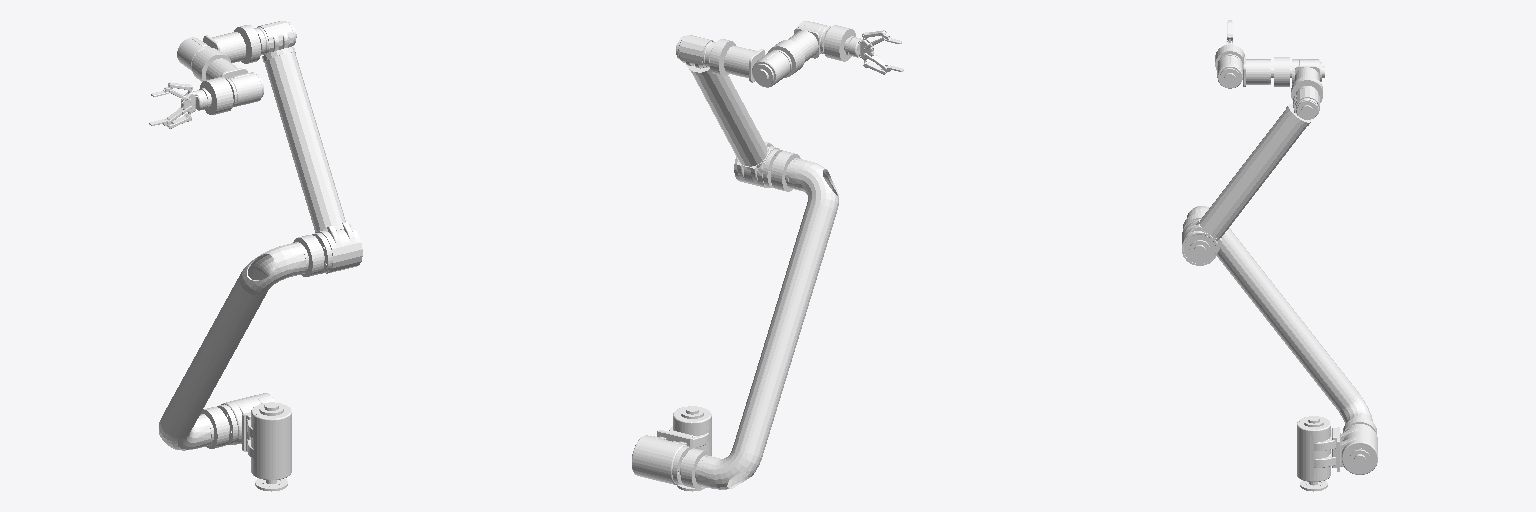
The robot description file, URDF, robot "机械臂":
<?xml version="1.0" encoding="utf-8"?>
<!-- This URDF was automatically created by SolidWorks to URDF Exporter! Originally created by [author] ([email redacted]) 
     Commit Version: 1.6.0-1-g15f4949  Build Version: 1.6.7594.29634
     For more information, please see http://wiki.ros.org/sw_urdf_exporter -->
<robot
  name="机械臂">
  <link
    name="base_link">
    <inertial>
      <origin
        xyz="0.175000065234684 -1.28353998601978 0.0846256448065584"
        rpy="0 0 0" />
      <mass
        value="9.63410834932178" />
      <inertia
        ixx="0.118228807956081"
        ixy="-5.0957321181862E-07"
        ixz="1.72062364122864E-09"
        iyy="0.118225953121689"
        iyz="4.16913652507129E-17"
        izz="0.137194156018786" />
    </inertial>
    <visual>
      <origin
        xyz="0 0 0"
        rpy="0 0 0" />
      <geometry>
        <mesh
          filename="package://机械臂/meshes/base_link.STL" />
      </geometry>
      <material
        name="">
        <color
          rgba="1 1 1 1" />
      </material>
    </visual>
    <collision>
      <origin
        xyz="0 0 0"
        rpy="0 0 0" />
      <geometry>
        <mesh
          filename="package://机械臂/meshes/base_link.STL" />
      </geometry>
    </collision>
  </link>
  <link
    name="Link1">
    <inertial>
      <origin
        xyz="-0.10023640362579 -0.00344641251692088 0.174250351355485"
        rpy="0 0 0" />
      <mass
        value="5.17491872844292" />
      <inertia
        ixx="0.0304221927243367"
        ixy="0.00255793298706213"
        ixz="0.000566537933529525"
        iyy="0.0524628663009184"
        iyz="-5.38795635070424E-05"
        izz="0.0437592826397428" />
    </inertial>
    <visual>
      <origin
        xyz="0 0 0"
        rpy="0 0 0" />
      <geometry>
        <mesh
          filename="package://机械臂/meshes/Link1.STL" />
      </geometry>
      <material
        name="">
        <color
          rgba="1 1 1 1" />
      </material>
    </visual>
    <collision>
      <origin
        xyz="0 0 0"
        rpy="0 0 0" />
      <geometry>
        <mesh
          filename="package://机械臂/meshes/Link1.STL" />
      </geometry>
    </collision>
  </link>
  <joint
    name="joint1"
    type="revolute">
    <origin
      xyz="0.175 -1.28353998602675 0.180000000000021"
      rpy="0 0 -1.5707963267949" />
    <parent
      link="base_link" />
    <child
      link="Link1" />
    <axis
      xyz="0 0 -1" />
    <limit
      lower="0"
      upper="0"
      effort="0"
      velocity="0" />
  </joint>
  <link
    name="Link2">
    <inertial>
      <origin
        xyz="0.466771973200787 -0.0200679208590893 0.656279146890149"
        rpy="0 0 0" />
      <mass
        value="5.06670898247749" />
      <inertia
        ixx="0.3470792896805"
        ixy="1.04550875056428E-05"
        ixz="-0.229276580302284"
        iyy="0.500779642027053"
        iyz="1.48421856668549E-05"
        izz="0.187791160297581" />
    </inertial>
    <visual>
      <origin
        xyz="0 0 0"
        rpy="0 0 0" />
      <geometry>
        <mesh
          filename="package://机械臂/meshes/Link2.STL" />
      </geometry>
      <material
        name="">
        <color
          rgba="1 1 1 1" />
      </material>
    </visual>
    <collision>
      <origin
        xyz="0 0 0"
        rpy="0 0 0" />
      <geometry>
        <mesh
          filename="package://机械臂/meshes/Link2.STL" />
      </geometry>
    </collision>
  </link>
  <joint
    name="joint2"
    type="revolute">
    <origin
      xyz="-0.199999999999705 -0.164019999999946 0.179999999999324"
      rpy="0 0 0" />
    <parent
      link="Link1" />
    <child
      link="Link2" />
    <axis
      xyz="0 -1 0" />
    <limit
      lower="0"
      upper="0"
      effort="0"
      velocity="0" />
  </joint>
  <link
    name="Link3">
    <inertial>
      <origin
        xyz="-0.26645118399556 -0.079424732084338 0.38167788397144"
        rpy="0 0 0" />
      <mass
        value="3.09946963131409" />
      <inertia
        ixx="0.149105958907437"
        ixy="-1.89957749734383E-05"
        ixz="0.0977586144353564"
        iyy="0.219315567296226"
        iyz="2.72491726693336E-05"
        izz="0.0773167516090272" />
    </inertial>
    <visual>
      <origin
        xyz="0 0 0"
        rpy="0 0 0" />
      <geometry>
        <mesh
          filename="package://机械臂/meshes/Link3.STL" />
      </geometry>
      <material
        name="">
        <color
          rgba="1 1 1 1" />
      </material>
    </visual>
    <collision>
      <origin
        xyz="0 0 0"
        rpy="0 0 0" />
      <geometry>
        <mesh
          filename="package://机械臂/meshes/Link3.STL" />
      </geometry>
    </collision>
  </link>
  <joint
    name="joint3"
    type="revolute">
    <origin
      xyz="0.695520649063987 0.219020000000473 0.97788088575548"
      rpy="0 0 0" />
    <parent
      link="Link2" />
    <child
      link="Link3" />
    <axis
      xyz="0 1 0" />
    <limit
      lower="0"
      upper="0"
      effort="0"
      velocity="0" />
  </joint>
  <link
    name="Link4">
    <inertial>
      <origin
        xyz="0.0339777660443481 -0.108927859924944 -5.01533037322588E-09"
        rpy="0 0 0" />
      <mass
        value="1.32312071913896" />
      <inertia
        ixx="0.0040376799409881"
        ixy="2.8629913833031E-06"
        ixz="-4.78825536786573E-11"
        iyy="0.0025574469782764"
        iyz="-2.53060943732125E-10"
        izz="0.00390753680935879" />
    </inertial>
    <visual>
      <origin
        xyz="0 0 0"
        rpy="0 0 0" />
      <geometry>
        <mesh
          filename="package://机械臂/meshes/Link4.STL" />
      </geometry>
      <material
        name="">
        <color
          rgba="1 1 1 1" />
      </material>
    </visual>
    <collision>
      <origin
        xyz="0 0 0"
        rpy="0 0 0" />
      <geometry>
        <mesh
          filename="package://机械臂/meshes/Link4.STL" />
      </geometry>
    </collision>
  </link>
  <joint
    name="joint4"
    type="revolute">
    <origin
      xyz="-0.466520649051403 -0.211099999835117 0.668269020696948"
      rpy="0 0 0" />
    <parent
      link="Link3" />
    <child
      link="Link4" />
    <axis
      xyz="0 1 0" />
    <limit
      lower="0"
      upper="0"
      effort="0"
      velocity="0" />
  </joint>
  <link
    name="Link5">
    <inertial>
      <origin
        xyz="0.116820494902411 -0.0388858014695093 9.49856462728604E-05"
        rpy="0 0 0" />
      <mass
        value="1.49665109696271" />
      <inertia
        ixx="0.00362010787485334"
        ixy="2.87189467699518E-06"
        ixz="-7.52821732655946E-09"
        iyy="0.00411237521489435"
        iyz="2.18423673209098E-06"
        izz="0.00497019007843053" />
    </inertial>
    <visual>
      <origin
        xyz="0 0 0"
        rpy="0 0 0" />
      <geometry>
        <mesh
          filename="package://机械臂/meshes/Link5.STL" />
      </geometry>
      <material
        name="">
        <color
          rgba="1 1 1 1" />
      </material>
    </visual>
    <collision>
      <origin
        xyz="0 0 0"
        rpy="0 0 0" />
      <geometry>
        <mesh
          filename="package://机械臂/meshes/Link5.STL" />
      </geometry>
    </collision>
  </link>
  <joint
    name="joint5"
    type="revolute">
    <origin
      xyz="0.157999999987109 -0.17700000017881 0"
      rpy="0 0 0" />
    <parent
      link="Link4" />
    <child
      link="Link5" />
    <axis
      xyz="-1 0 0" />
    <limit
      lower="0"
      upper="0"
      effort="0"
      velocity="0" />
  </joint>
  <link
    name="Link6">
    <inertial>
      <origin
        xyz="2.28098209260619E-05 -0.0320807203623127 -5.37221285679124E-07"
        rpy="0 0 0" />
      <mass
        value="0.225883780891649" />
      <inertia
        ixx="0.000200276096336215"
        ixy="1.12516805106898E-07"
        ixz="-8.90541740359369E-09"
        iyy="0.000134409410807654"
        iyz="-4.88400860706578E-10"
        izz="0.000175807968226694" />
    </inertial>
    <visual>
      <origin
        xyz="0 0 0"
        rpy="0 0 0" />
      <geometry>
        <mesh
          filename="package://机械臂/meshes/Link6.STL" />
      </geometry>
      <material
        name="">
        <color
          rgba="1 1 1 1" />
      </material>
    </visual>
    <collision>
      <origin
        xyz="0 0 0"
        rpy="0 0 0" />
      <geometry>
        <mesh
          filename="package://机械臂/meshes/Link6.STL" />
      </geometry>
    </collision>
  </link>
  <joint
    name="joint6"
    type="revolute">
    <origin
      xyz="0.176999999990653 -0.167999494802491 0.000411998519138201"
      rpy="-0.00245237457649197 0 0" />
    <parent
      link="Link5" />
    <child
      link="Link6" />
    <axis
      xyz="0 -1 0" />
    <limit
      lower="0"
      upper="0"
      effort="0"
      velocity="0" />
  </joint>
  <link
    name="Link7">
    <inertial>
      <origin
        xyz="-0.000181478067869945 -0.0317448329689773 0.0398064144277606"
        rpy="0 0 0" />
      <mass
        value="0.0319358386218752" />
      <inertia
        ixx="2.01085931432526E-05"
        ixy="3.12789550275446E-09"
        ixz="-8.8632784447456E-10"
        iyy="5.09514460934359E-06"
        iyz="6.17937194323444E-06"
        izz="1.90791381720628E-05" />
    </inertial>
    <visual>
      <origin
        xyz="0 0 0"
        rpy="0 0 0" />
      <geometry>
        <mesh
          filename="package://机械臂/meshes/Link7.STL" />
      </geometry>
      <material
        name="">
        <color
          rgba="1 1 1 1" />
      </material>
    </visual>
    <collision>
      <origin
        xyz="0 0 0"
        rpy="0 0 0" />
      <geometry>
        <mesh
          filename="package://机械臂/meshes/Link7.STL" />
      </geometry>
    </collision>
  </link>
  <joint
    name="joint7"
    type="revolute">
    <origin
      xyz="0 -0.054663 0.030601"
      rpy="0 0 0" />
    <parent
      link="Link6" />
    <child
      link="Link7" />
    <axis
      xyz="1 0 0" />
    <limit
      lower="0"
      upper="0"
      effort="0"
      velocity="0" />
    <mimic
      joint="joint8"
      multiplier="1"
      offset="0" />
  </joint>
  <link
    name="Link8">
    <inertial>
      <origin
        xyz="-5.00165586529988E-05 -0.0438269624455681 0.0301838581399925"
        rpy="0 0 0" />
      <mass
        value="0.0252265093199784" />
      <inertia
        ixx="1.6808616481803E-05"
        ixy="-2.12045463573026E-11"
        ixz="1.53180584275812E-11"
        iyy="7.9387147036509E-06"
        iyz="7.58011607165621E-06"
        izz="1.36915220963734E-05" />
    </inertial>
    <visual>
      <origin
        xyz="0 0 0"
        rpy="0 0 0" />
      <geometry>
        <mesh
          filename="package://机械臂/meshes/Link8.STL" />
      </geometry>
      <material
        name="">
        <color
          rgba="1 1 1 1" />
      </material>
    </visual>
    <collision>
      <origin
        xyz="0 0 0"
        rpy="0 0 0" />
      <geometry>
        <mesh
          filename="package://机械臂/meshes/Link8.STL" />
      </geometry>
    </collision>
  </link>
  <joint
    name="joint8"
    type="revolute">
    <origin
      xyz="0 -0.061178 0.0127"
      rpy="0 0 0" />
    <parent
      link="Link6" />
    <child
      link="Link8" />
    <axis
      xyz="1 0 0" />
    <limit
      lower="0"
      upper="45"
      effort="0"
      velocity="0" />
  </joint>
  <link
    name="Link11">
    <inertial>
      <origin
        xyz="-0.000200000020441404 0.00181476872250885 0.00846774554587926"
        rpy="0 0 0" />
      <mass
        value="0.00721958961039276" />
      <inertia
        ixx="6.54404874424823E-07"
        ixy="-1.22054472984936E-15"
        ixz="-6.62770202363781E-13"
        iyy="6.47825684492298E-07"
        iyz="-1.54040746931974E-07"
        izz="4.21420299143768E-07" />
    </inertial>
    <visual>
      <origin
        xyz="0 0 0"
        rpy="0 0 0" />
      <geometry>
        <mesh
          filename="package://机械臂/meshes/Link11.STL" />
      </geometry>
      <material
        name="">
        <color
          rgba="1 1 1 1" />
      </material>
    </visual>
    <collision>
      <origin
        xyz="0 0 0"
        rpy="0 0 0" />
      <geometry>
        <mesh
          filename="package://机械臂/meshes/Link11.STL" />
      </geometry>
    </collision>
  </link>
  <joint
    name="joint11"
    type="revolute">
    <origin
      xyz="0 -0.082385 0.05668"
      rpy="0 0 0" />
    <parent
      link="Link8" />
    <child
      link="Link11" />
    <axis
      xyz="1 0 0" />
    <limit
      lower="0"
      upper="0"
      effort="0"
      velocity="0" />
    <mimic
      joint="joint8"
      multiplier="-1"
      offset="0" />
  </joint>
  <link
    name="Link9">
    <inertial>
      <origin
        xyz="-5.00161187924064E-05 -0.0482044913916658 -0.0225431825096782"
        rpy="0 0 0" />
      <mass
        value="0.0252265101127249" />
      <inertia
        ixx="1.6808617666226E-05"
        ixy="-2.37792659310917E-11"
        ixz="-1.04792046679214E-11"
        iyy="5.60564073206646E-06"
        iyz="-6.21234299435615E-06"
        izz="1.60245973553727E-05" />
    </inertial>
    <visual>
      <origin
        xyz="0 0 0"
        rpy="0 0 0" />
      <geometry>
        <mesh
          filename="package://机械臂/meshes/Link9.STL" />
      </geometry>
      <material
        name="">
        <color
          rgba="1 1 1 1" />
      </material>
    </visual>
    <collision>
      <origin
        xyz="0 0 0"
        rpy="0 0 0" />
      <geometry>
        <mesh
          filename="package://机械臂/meshes/Link9.STL" />
      </geometry>
    </collision>
  </link>
  <joint
    name="joint9"
    type="revolute">
    <origin
      xyz="0 -0.061178 -0.0127"
      rpy="0 0 0" />
    <parent
      link="Link6" />
    <child
      link="Link9" />
    <axis
      xyz="-1 0 0" />
    <limit
      lower="0"
      upper="0"
      effort="0"
      velocity="0" />
    <mimic
      joint="joint8"
      multiplier="1"
      offset="0" />
  </joint>
  <link
    name="Link12">
    <inertial>
      <origin
        xyz="1.95898852695109E-11 0.00181476855692436 -0.00846774547018936"
        rpy="0 0 0" />
      <mass
        value="0.00721958973240477" />
      <inertia
        ixx="6.54404894420929E-07"
        ixy="1.22110369400717E-15"
        ixz="-6.62019872333363E-13"
        iyy="6.47825689710172E-07"
        iyz="1.54040753114242E-07"
        izz="4.21420309970185E-07" />
    </inertial>
    <visual>
      <origin
        xyz="0 0 0"
        rpy="0 0 0" />
      <geometry>
        <mesh
          filename="package://机械臂/meshes/Link12.STL" />
      </geometry>
      <material
        name="">
        <color
          rgba="1 1 1 1" />
      </material>
    </visual>
    <collision>
      <origin
        xyz="0 0 0"
        rpy="0 0 0" />
      <geometry>
        <mesh
          filename="package://机械臂/meshes/Link12.STL" />
      </geometry>
    </collision>
  </link>
  <joint
    name="joint12"
    type="revolute">
    <origin
      xyz="0 -0.090563 -0.042406"
      rpy="0 0 0" />
    <parent
      link="Link9" />
    <child
      link="Link12" />
    <axis
      xyz="1 0 0" />
    <limit
      lower="0"
      upper="0"
      effort="0"
      velocity="0" />
    <mimic
      joint="joint9"
      multiplier="1"
      offset="0" />
  </joint>
  <link
    name="Link10">
    <inertial>
      <origin
        xyz="2.73117885352114E-06 -0.0378415938959361 -0.0340631082101284"
        rpy="0 0 0" />
      <mass
        value="0.0319358848099955" />
      <inertia
        ixx="2.01086352196278E-05"
        ixy="-3.23000917392899E-09"
        ixz="-3.60995549403207E-10"
        iyy="3.47222994627157E-06"
        iyz="-3.58549758813272E-06"
        izz="2.07021101800963E-05" />
    </inertial>
    <visual>
      <origin
        xyz="0 0 0"
        rpy="0 0 0" />
      <geometry>
        <mesh
          filename="package://机械臂/meshes/Link10.STL" />
      </geometry>
      <material
        name="">
        <color
          rgba="1 1 1 1" />
      </material>
    </visual>
    <collision>
      <origin
        xyz="0 0 0"
        rpy="0 0 0" />
      <geometry>
        <mesh
          filename="package://机械臂/meshes/Link10.STL" />
      </geometry>
    </collision>
  </link>
  <joint
    name="joint10"
    type="revolute">
    <origin
      xyz="0 -0.054663 -0.030601"
      rpy="0 0 0" />
    <parent
      link="Link6" />
    <child
      link="Link10" />
    <axis
      xyz="1 0 0" />
    <limit
      lower="0"
      upper="0"
      effort="0"
      velocity="0" />
    <mimic
      joint="joint9"
      multiplier="-1"
      offset="0" />
  </joint>
</robot>

--- What the picture shows (computed from the rendered views, not written in the file) ---
The picture shows the robot from 3 angles, left to right: view 1: azimuth 30°, elevation 25°; view 2: azimuth 150°, elevation 25°; view 3: azimuth 270°, elevation 25°; orthographic projection.
Model 机械臂 with 13 links and 12 joints (12 revolute), rooted at base_link, posed every joint at zero.
Links seen in each view (by area): view 1: Link2, Link3, Link1, Link5, Link4; view 2: Link2, Link3, Link1, Link4, Link5; view 3: Link2, Link3, Link1, Link5, Link4.
Link boxes in pixels (box(x1,y1,x2,y2)): Link2: box(159, 233, 332, 450); Link3: box(234, 21, 362, 273); Link1: box(201, 393, 291, 491); Link5: box(199, 58, 263, 114); Link4: box(177, 32, 245, 81); Link2: box(696, 149, 838, 489); Link3: box(676, 35, 779, 187); Link1: box(632, 406, 711, 491); Link4: box(724, 40, 804, 87); Link5: box(788, 21, 855, 61); Link2: box(1183, 206, 1372, 423); Link3: box(1182, 76, 1322, 265); Link1: box(1297, 416, 1377, 491); Link5: box(1215, 44, 1270, 88); Link4: box(1271, 57, 1324, 86).
Bounding box of the posed robot: 0.857 × 0.8547 × 1.92 m (x, y, z).
12 mesh visuals loaded from 13 distinct referenced files (12 binary STL); not drawn: 1 (reference not matched to a file when rendering).